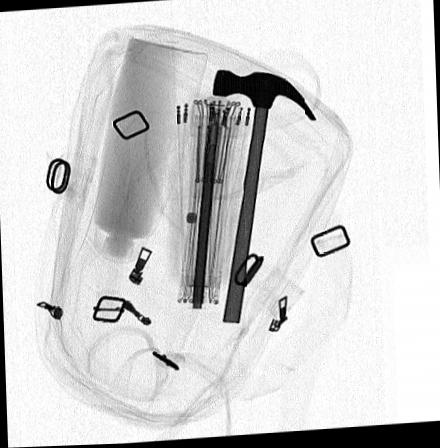Hammer: (211, 71, 317, 326)
